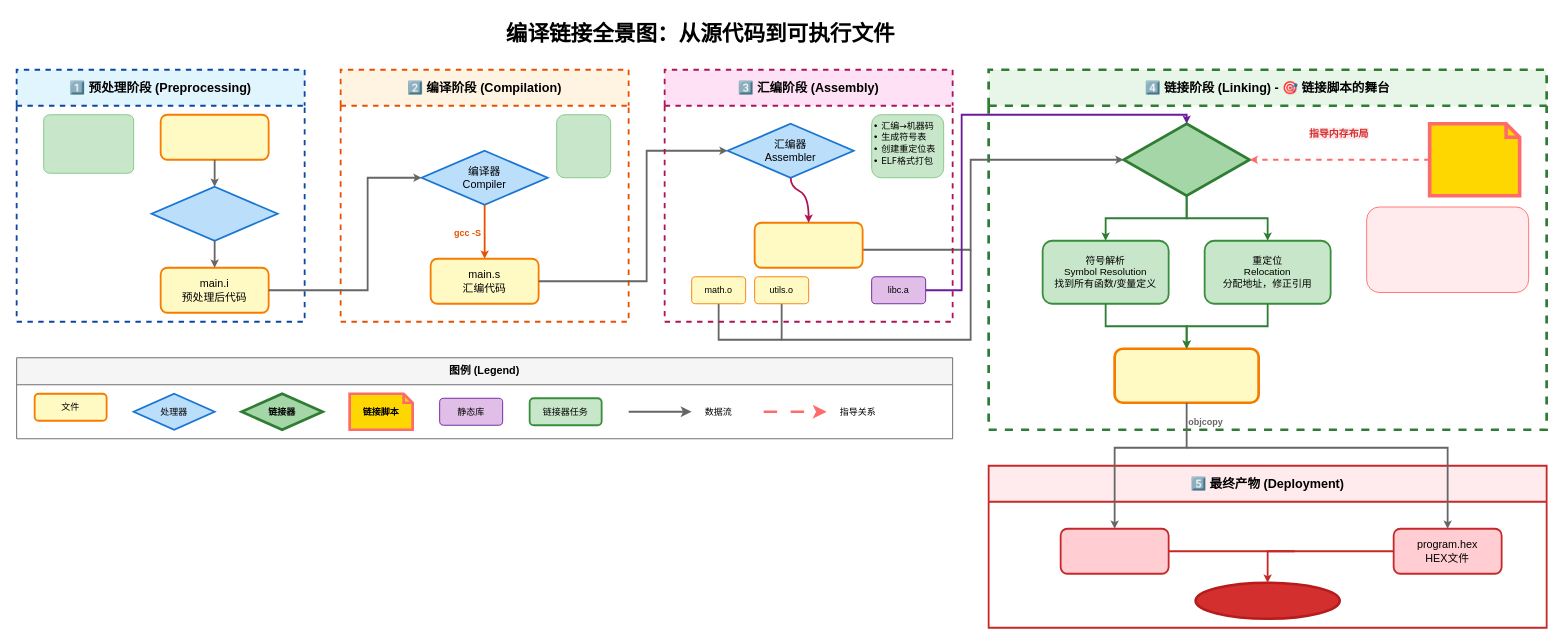
The diagram is 1563 pixels wide and 644 high, and some of its shapes have lost their labels. Here are the shapes that lost their labels. From the top down, the centre of each, then its label:
the point at 88,143: • 宏展开 #define • 头文件包含 #include • 条件编译 #ifdef • 注释移除
the point at 214,136: main.c 源文件
the point at 583,146: • 词法分析 • 语法分析 • 语义分析 • 代码优化 • 生成汇编
the point at 1186,159: 链接器 Linker (ld)
the point at 1474,159: linker.ld 📜 链接脚本
the point at 214,213: 预处理器
the point at 808,244: main.o 目标文件 (ELF)
the point at 1447,249: 链接脚本的作用: • MEMORY: 定义Flash/RAM • SECTIONS: 指定段位置 • VMA vs LMA: 双地址 • 创建符号供代码使用
the point at 1186,375: program.elf 可执行文件
the point at 1114,550: program.bin 二进制镜像
the point at 1267,600: 🔥 烧录到Flash
